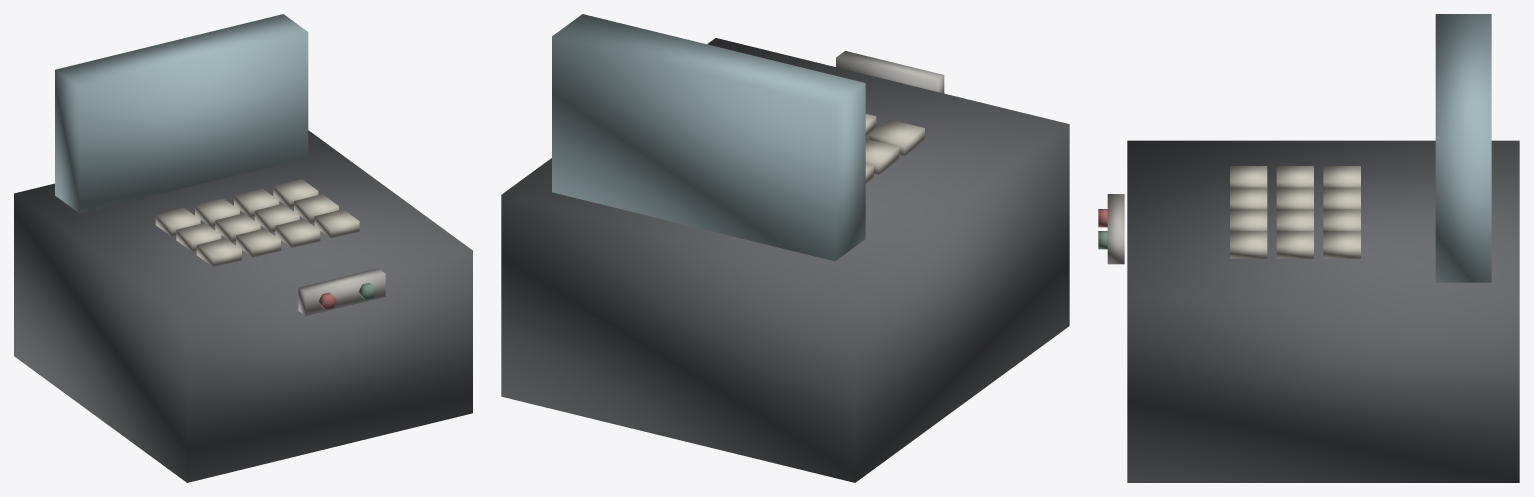
Rendered from cash_register__reinforced.glb.
3 renders of one model, left to right at view 1: azimuth 30°, elevation 25°; view 2: azimuth 150°, elevation 25°; view 3: azimuth 270°, elevation 25°, orthographic. The views are drawn at different scales.
Parts seen in each view (by area): view 1: world; view 2: world; view 3: world.
Part boxes in pixels (x1,y1,x2,y2): world: (14, 14, 472, 482); world: (501, 14, 1069, 482); world: (1098, 14, 1519, 482).
Bounding box in the file's own units: 0.412 × 0.3978 × 0.4645.
